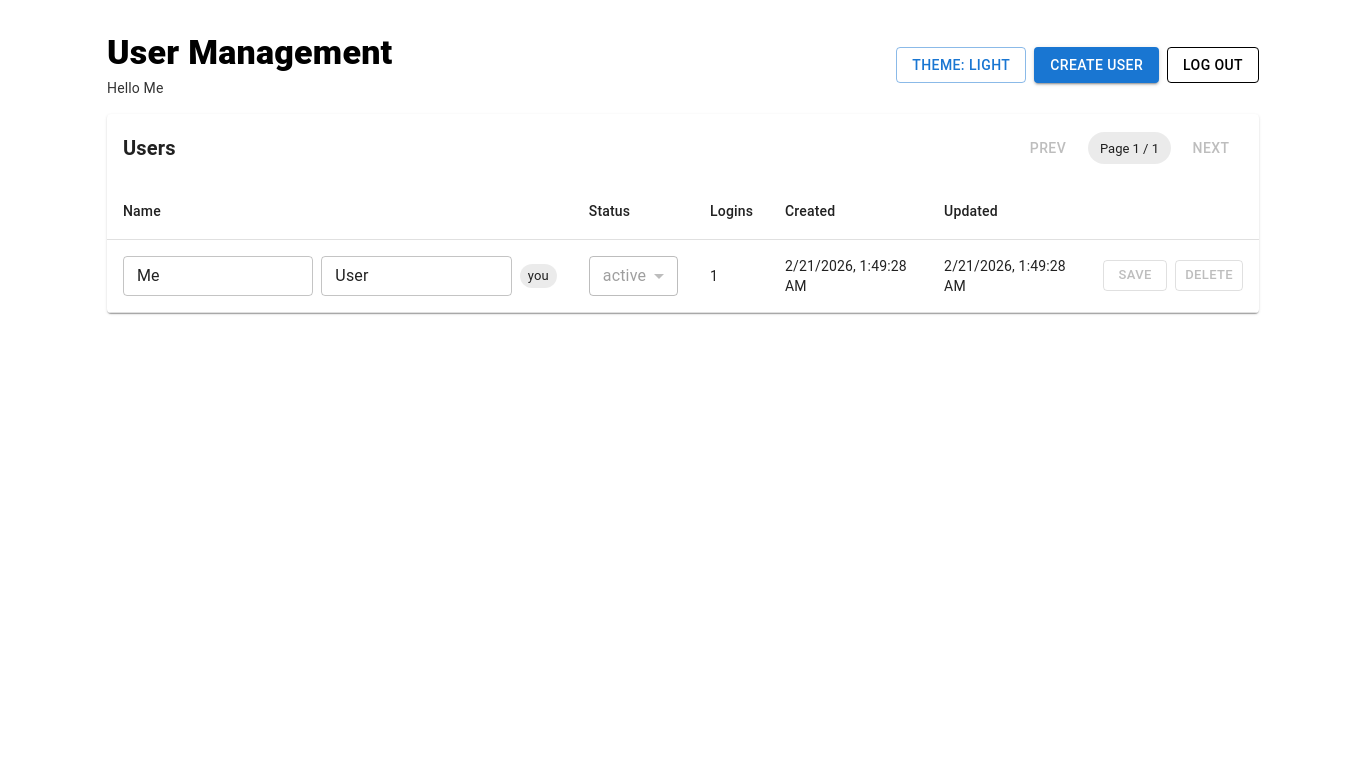
Test: Dashboard › opens/closes create dialog
Expected: the text "Hello Me" is shown, [107,80,164,96]
Click the button "Create user". click: (1097, 65)
box: [1034,47,1159,83]
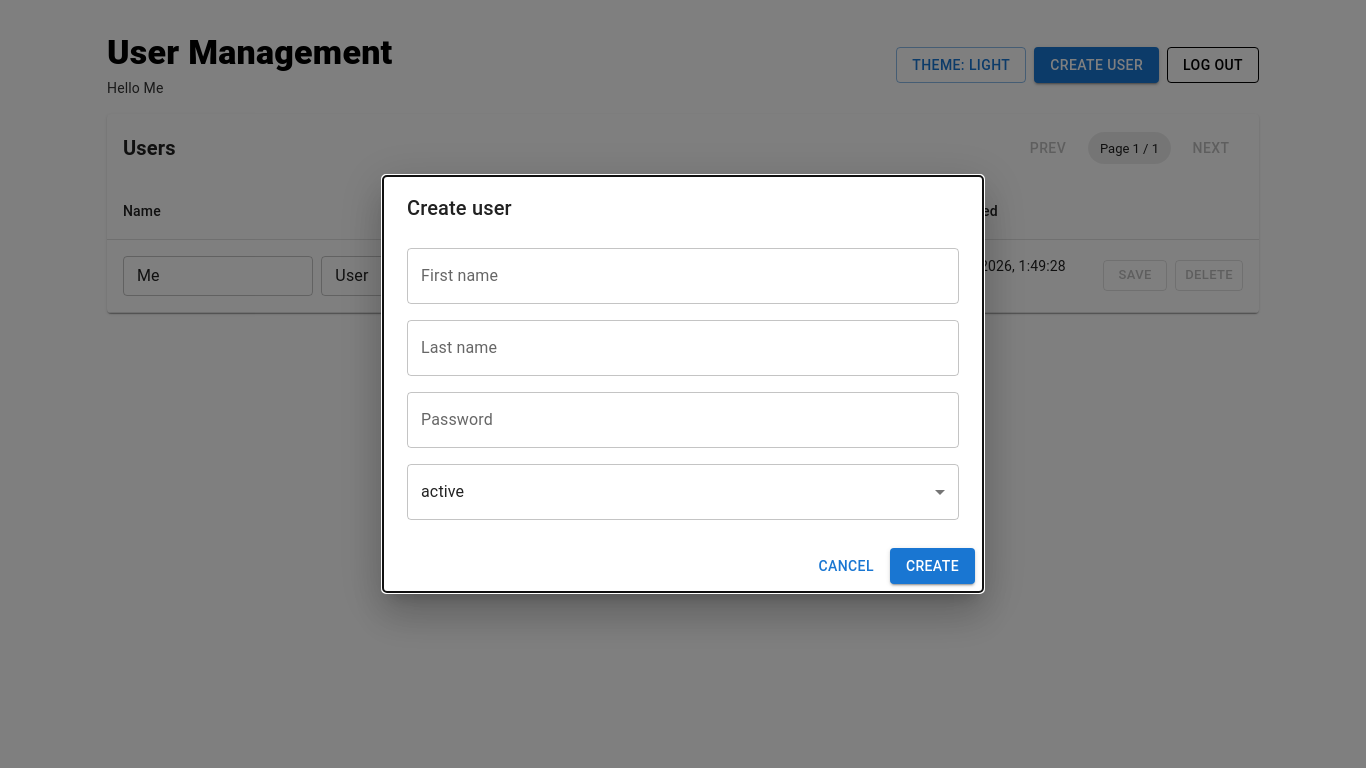
Expected: the dialog is shown, [383,176,983,592]
Click the button "Cancel". click: (846, 566)
box: [810,548,882,584]
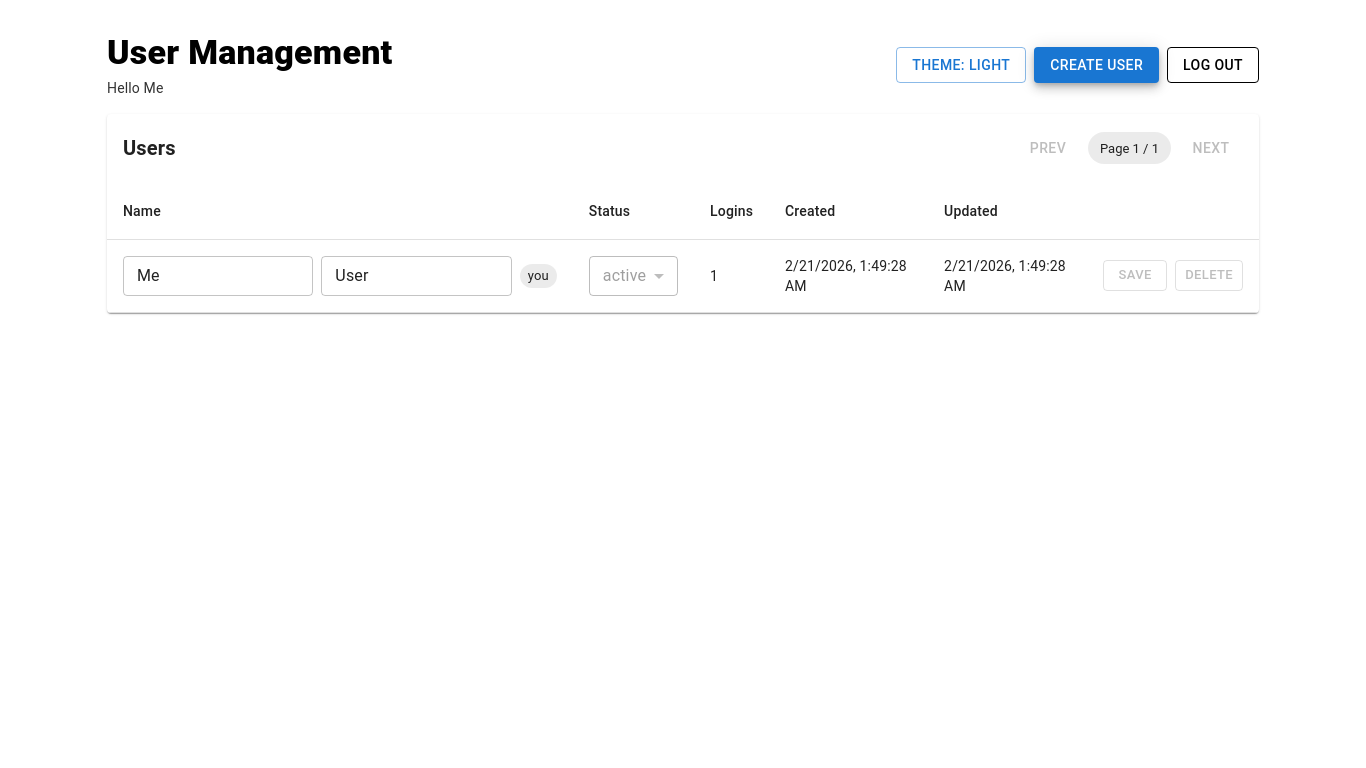
Expected: the dialog is gone
